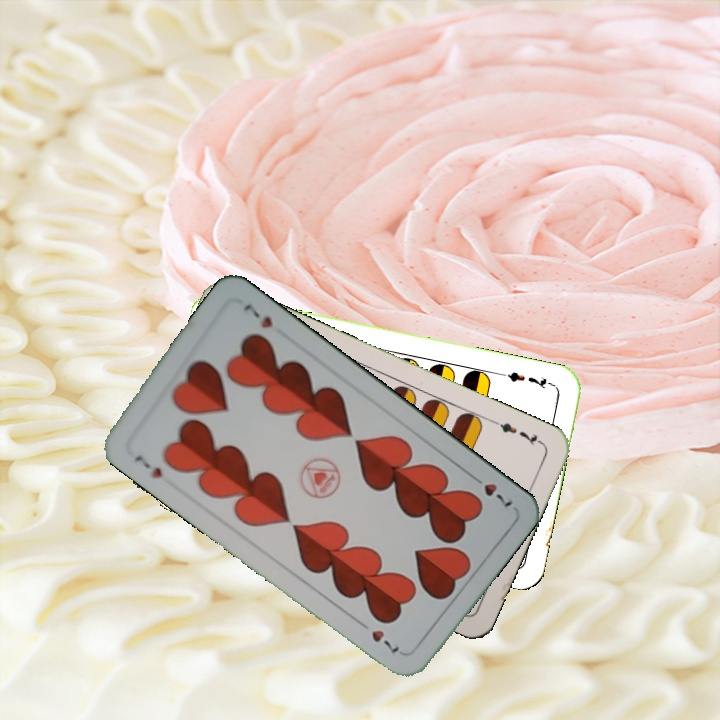E7: (490, 416, 546, 447), (497, 368, 556, 392)
H7: (466, 470, 516, 510), (130, 450, 165, 481)
